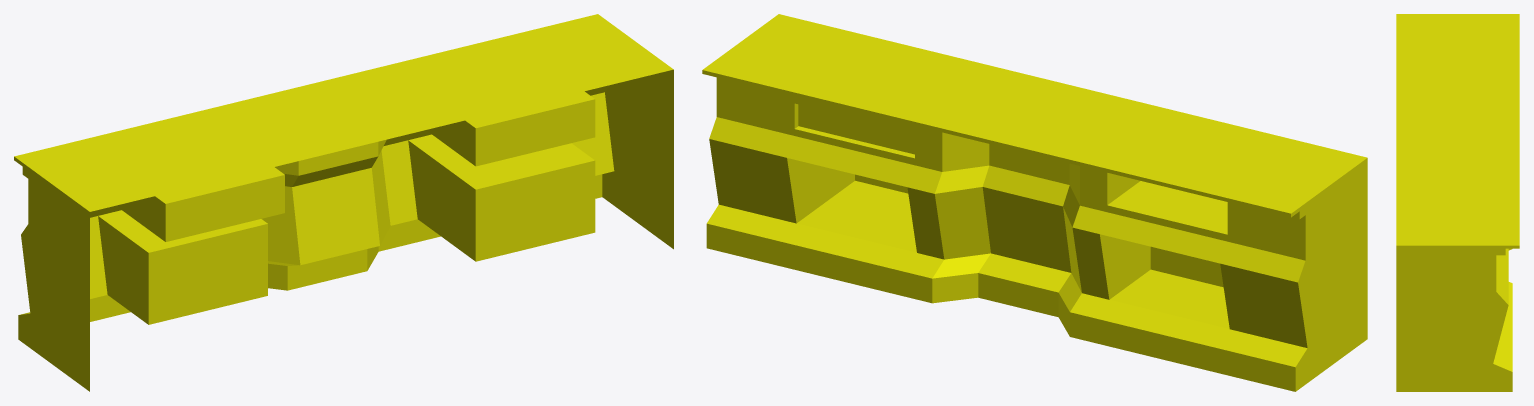
File: Cell2Desk.fbx
The picture shows the model from 3 angles, left to right: view 1: azimuth 30°, elevation 25°; view 2: azimuth 150°, elevation 25°; view 3: azimuth 270°, elevation 25°; orthographic projection. The views are drawn at different scales.
Visible parts, largest first — view 1: Cell2Desk; view 2: Cell2Desk, Cell2DeskDrawer; view 3: Cell2Desk.
Boxes of the visible parts, x1,y1,x2,y2 form: Cell2Desk: (14,14,673,391); Cell2Desk: (702,14,1367,391); Cell2DeskDrawer: (794,96,914,154); Cell2Desk: (1396,14,1519,391).
Bounding box in the file's own units: 407 × 120 × 91.57.
